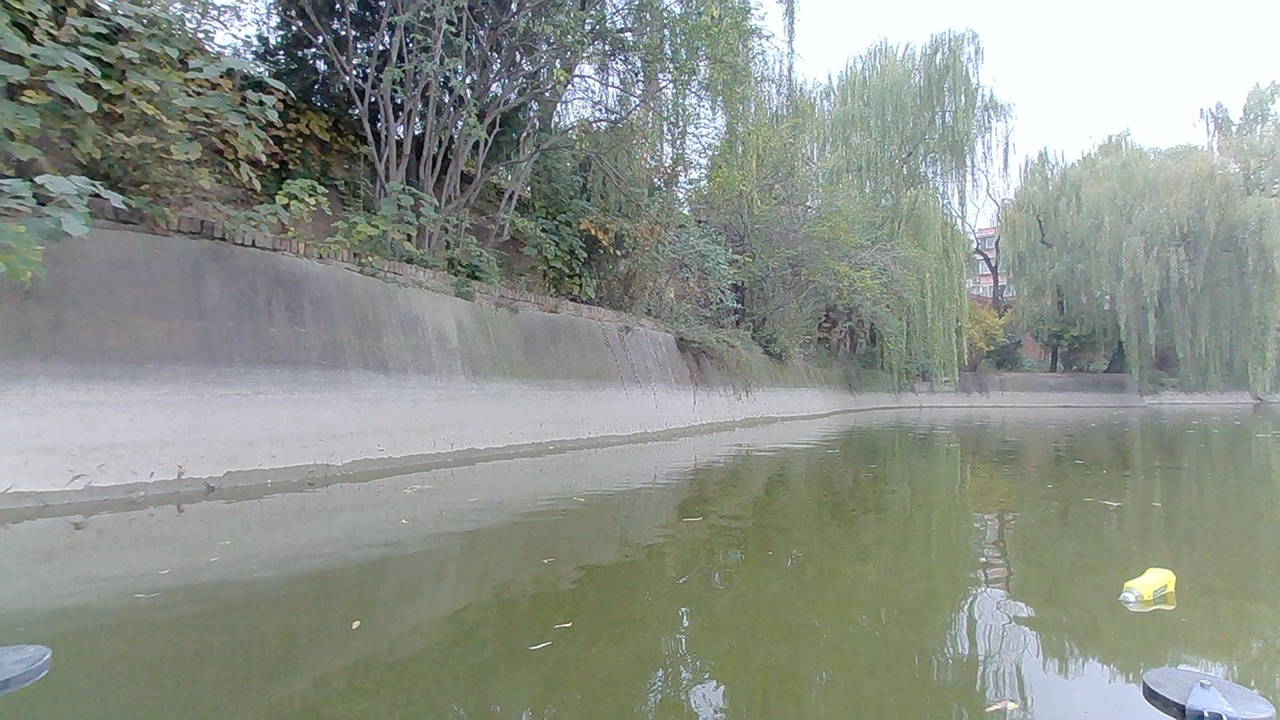bottle: (1113, 562, 1187, 615)
